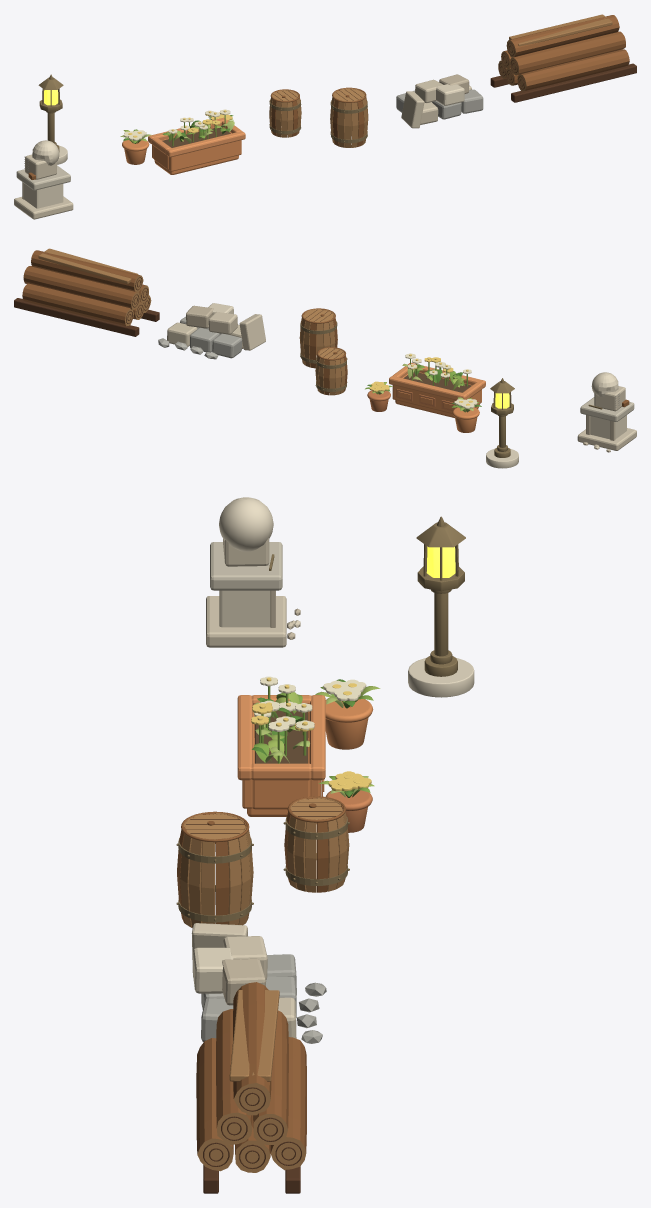
The model's file is yard_props.fbx.
3 views of the same model, one above another, from view 1: azimuth 30°, elevation 25°; view 2: azimuth 150°, elevation 25°; view 3: azimuth 270°, elevation 25° (orthographic). The views are drawn at different scales.
Parts seen in each view (by area): view 1: 01_Lumber_Timber • warm oak, 04_FlowerPlanter_Terracotta • tile 1, 01_Lumber_Timber • deep joints, 02_StoneStock_Limestone • course 1, HalfCarvedStoneDisplay_Limestone • course 2, 04_FlowerPlanter_Terracotta • tile 2, HalfCarvedStoneDisplay_Limestone • course 1, BarrelTall_Timber • tabletop, 01_Lumber_Timber • tabletop, 02_StoneStock_Stone • uncut cool grey, BronzeLanternPost_Copper • aged fittings, BarrelShort_Timber • tabletop (+12 smaller); view 2: 01_Lumber_Timber • warm oak, 02_StoneStock_Limestone • course 1, 04_FlowerPlanter_Terracotta • tile 1, 01_Lumber_Timber • deep joints, 02_StoneStock_Stone • uncut cool grey, 04_FlowerPlanter_Terracotta • tile 2, HalfCarvedStoneDisplay_Limestone • course 1, HalfCarvedStoneDisplay_Limestone • course 2, 01_Lumber_Timber • tabletop, BarrelTall_Timber • tabletop, BronzeLanternPost_Copper • aged fittings, BarrelShort_Timber • tabletop (+11 smaller); view 3: 01_Lumber_Timber • warm oak, 01_Lumber_Timber • cut end, 04_FlowerPlanter_Terracotta • tile 1, BarrelTall_Timber • tabletop, HalfCarvedStoneDisplay_Limestone • course 2, 04_FlowerPlanter_Terracotta • tile 2, BronzeLanternPost_Copper • aged fittings, HalfCarvedStoneDisplay_Limestone • course 1, 02_StoneStock_Stone • uncut cool grey, BarrelShort_Timber • tabletop, 02_StoneStock_Limestone • course 1, HalfCarvedStoneDisplay_Limestone • course 3 (+15 smaller).
Part boxes in pixels (box(x1,y1,x2,y2)): 01_Lumber_Timber • warm oak: box(500, 15, 629, 90); 04_FlowerPlanter_Terracotta • tile 1: box(122, 127, 241, 174); 01_Lumber_Timber • deep joints: box(490, 42, 636, 102); 02_StoneStock_Limestone • course 1: box(401, 79, 471, 128); HalfCarvedStoneDisplay_Limestone • course 2: box(24, 140, 63, 208); 04_FlowerPlanter_Terracotta • tile 2: box(148, 118, 245, 157); HalfCarvedStoneDisplay_Limestone • course 1: box(14, 154, 73, 219); BarrelTall_Timber • tabletop: box(330, 88, 368, 147); 01_Lumber_Timber • tabletop: box(509, 14, 612, 46); 02_StoneStock_Stone • uncut cool grey: box(396, 89, 483, 119); BronzeLanternPost_Copper • aged fittings: box(38, 74, 63, 151); BarrelShort_Timber • tabletop: box(269, 90, 301, 137); 01_Lumber_Timber • warm oak: box(22, 250, 146, 325); 02_StoneStock_Limestone • course 1: box(167, 312, 265, 350); 04_FlowerPlanter_Terracotta • tile 1: box(392, 372, 481, 432); 01_Lumber_Timber • deep joints: box(14, 277, 159, 336); 02_StoneStock_Stone • uncut cool grey: box(158, 316, 242, 359); 04_FlowerPlanter_Terracotta • tile 2: box(389, 362, 485, 400); HalfCarvedStoneDisplay_Limestone • course 1: box(577, 386, 636, 450); HalfCarvedStoneDisplay_Limestone • course 2: box(590, 372, 626, 449); 01_Lumber_Timber • tabletop: box(38, 248, 138, 283); BarrelTall_Timber • tabletop: box(299, 309, 337, 367); BronzeLanternPost_Copper • aged fittings: box(490, 378, 514, 457); BarrelShort_Timber • tabletop: box(315, 348, 347, 395); 01_Lumber_Timber • warm oak: box(196, 982, 306, 1155); 01_Lumber_Timber • cut end: box(197, 1083, 306, 1172); 04_FlowerPlanter_Terracotta • tile 1: box(242, 699, 373, 816); BarrelTall_Timber • tabletop: box(177, 813, 253, 927); HalfCarvedStoneDisplay_Limestone • course 2: box(219, 497, 300, 627); 04_FlowerPlanter_Terracotta • tile 2: box(237, 695, 325, 780); BronzeLanternPost_Copper • aged fittings: box(416, 516, 465, 676); HalfCarvedStoneDisplay_Limestone • course 1: box(206, 538, 295, 647); 02_StoneStock_Stone • uncut cool grey: box(201, 954, 326, 1043); BarrelShort_Timber • tabletop: box(284, 797, 349, 892); 02_StoneStock_Limestone • course 1: box(191, 923, 296, 1038); HalfCarvedStoneDisplay_Limestone • course 3: box(210, 542, 282, 590).
Size of the model in its own units: 13.37 by 1.78 by 2.87.
